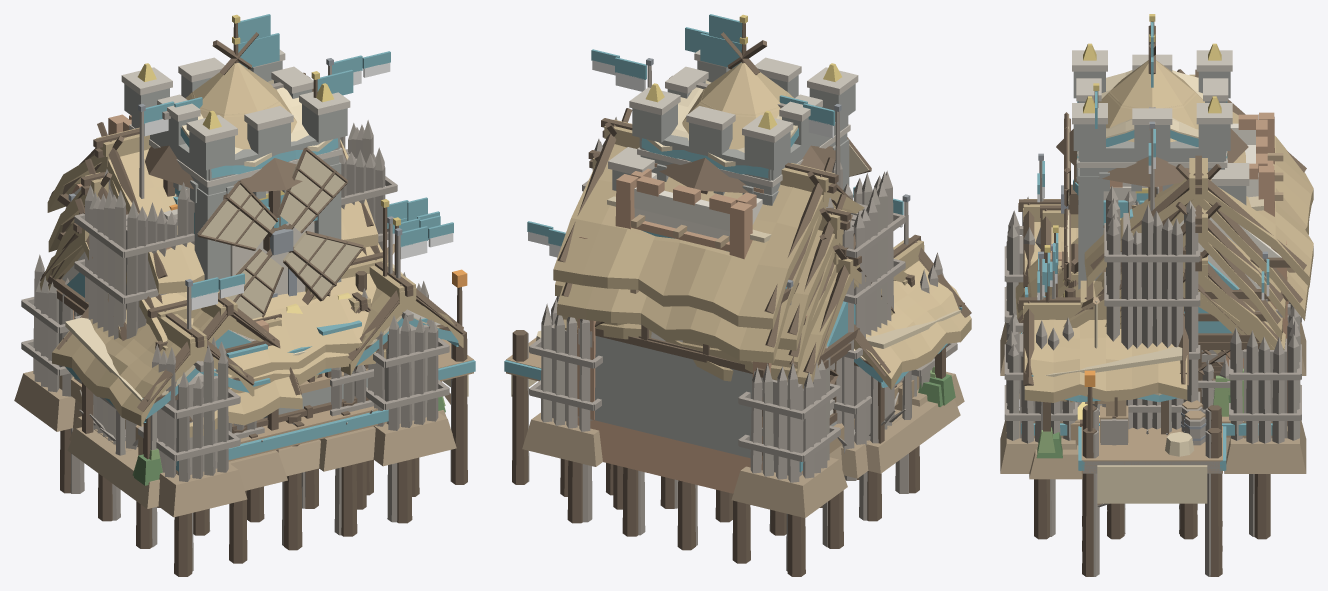
File: frontier-early-ages.glb
The picture shows the model from 3 angles, left to right: view 1: azimuth 30°, elevation 25°; view 2: azimuth 150°, elevation 25°; view 3: azimuth 270°, elevation 25°; orthographic projection. The views are drawn at different scales.
Parts seen in each view (by area): view 1: building:barracks:frontier:trunk, building:gate:palisade:trunk, building:towncenter:alder:1:straw, building:barracks:frontier:soil, building:dock:alder:1:darkwood, building:wallcorner:fortified:stoneDark, building:mill:alder:1:rotor:canvas, building:wallcorner:fortified:stone, building:stable:alder:1:straw, building:mill:alder:1:rotor:darkwood, building:towncenter:alder:1:darkwood, building:tower:raven:1:straw (+34 smaller); view 2: building:towncenter:alder:1:straw, building:barracks:frontier:trunk, building:towncenter:alder:1:stoneDark, building:towncenter:sun:1:brick, building:dock:alder:1:darkwood, building:gate:palisade:trunk, building:towncenter:raven:1:straw, building:wallcorner:fortified:stoneDark, building:barracks:frontier:soil, building:wallcorner:fortified:stone, building:towncenter:alder:1:darkwood, building:tower:raven:1:straw (+24 smaller); view 3: building:towncenter:alder:1:straw, building:barracks:frontier:trunk, building:gate:palisade:trunk, building:wallcorner:fortified:stoneDark, building:wallcorner:fortified:stone, building:dock:alder:1:pier:canvas, building:barracks:frontier:soil, building:towncenter:raven:1:straw, building:dock:frontier:pier:trunk, building:dock:alder:1:pier:darkwood, building:tower:raven:1:straw, building:dock:alder:1:darkwood (+27 smaller).
Boxes of the visible parts, x1=… form: building:barracks:frontier:trunk: x1=21, y1=201, x2=449, y2=481; building:gate:palisade:trunk: x1=74, y1=65, x2=397, y2=449; building:towncenter:alder:1:straw: x1=47, y1=127, x2=463, y2=426; building:barracks:frontier:soil: x1=14, y1=371, x2=456, y2=517; building:dock:alder:1:darkwood: x1=40, y1=223, x2=412, y2=576; building:wallcorner:fortified:stoneDark: x1=124, y1=60, x2=347, y2=290; building:mill:alder:1:rotor:canvas: x1=201, y1=151, x2=360, y2=318; building:wallcorner:fortified:stone: x1=121, y1=49, x2=350, y2=295; building:stable:alder:1:straw: x1=139, y1=243, x2=388, y2=388; building:mill:alder:1:rotor:darkwood: x1=197, y1=147, x2=363, y2=317; building:towncenter:alder:1:darkwood: x1=49, y1=88, x2=463, y2=459; building:tower:raven:1:straw: x1=185, y1=63, x2=296, y2=149; building:towncenter:alder:1:straw: x1=553, y1=119, x2=971, y2=389; building:barracks:frontier:trunk: x1=529, y1=201, x2=957, y2=482; building:towncenter:alder:1:stoneDark: x1=594, y1=170, x2=752, y2=458; building:towncenter:sun:1:brick: x1=577, y1=163, x2=771, y2=493; building:dock:alder:1:darkwood: x1=567, y1=256, x2=919, y2=576; building:gate:palisade:trunk: x1=582, y1=65, x2=905, y2=453; building:towncenter:raven:1:straw: x1=557, y1=141, x2=940, y2=380; building:wallcorner:fortified:stoneDark: x1=632, y1=60, x2=855, y2=205; building:barracks:frontier:soil: x1=522, y1=371, x2=964, y2=517; building:wallcorner:fortified:stone: x1=629, y1=50, x2=858, y2=187; building:towncenter:alder:1:darkwood: x1=557, y1=118, x2=971, y2=443; building:tower:raven:1:straw: x1=682, y1=62, x2=793, y2=149; building:towncenter:alder:1:straw: x1=1023, y1=74, x2=1313, y2=402; building:barracks:frontier:trunk: x1=1004, y1=160, x2=1301, y2=443; building:gate:palisade:trunk: x1=1104, y1=128, x2=1200, y2=434; building:wallcorner:fortified:stoneDark: x1=1073, y1=71, x2=1230, y2=289; building:wallcorner:fortified:stone: x1=1072, y1=50, x2=1232, y2=195; building:dock:alder:1:pier:canvas: x1=1097, y1=432, x2=1207, y2=503; building:barracks:frontier:soil: x1=1000, y1=322, x2=1306, y2=473; building:towncenter:raven:1:straw: x1=1023, y1=190, x2=1308, y2=350; building:dock:frontier:pier:trunk: x1=1083, y1=406, x2=1221, y2=576; building:dock:alder:1:pier:darkwood: x1=1082, y1=387, x2=1222, y2=576; building:tower:raven:1:straw: x1=1099, y1=60, x2=1204, y2=142; building:dock:alder:1:darkwood: x1=1034, y1=252, x2=1270, y2=539.
Size of the model in its own units: 8.41 by 10.62 by 6.43.
